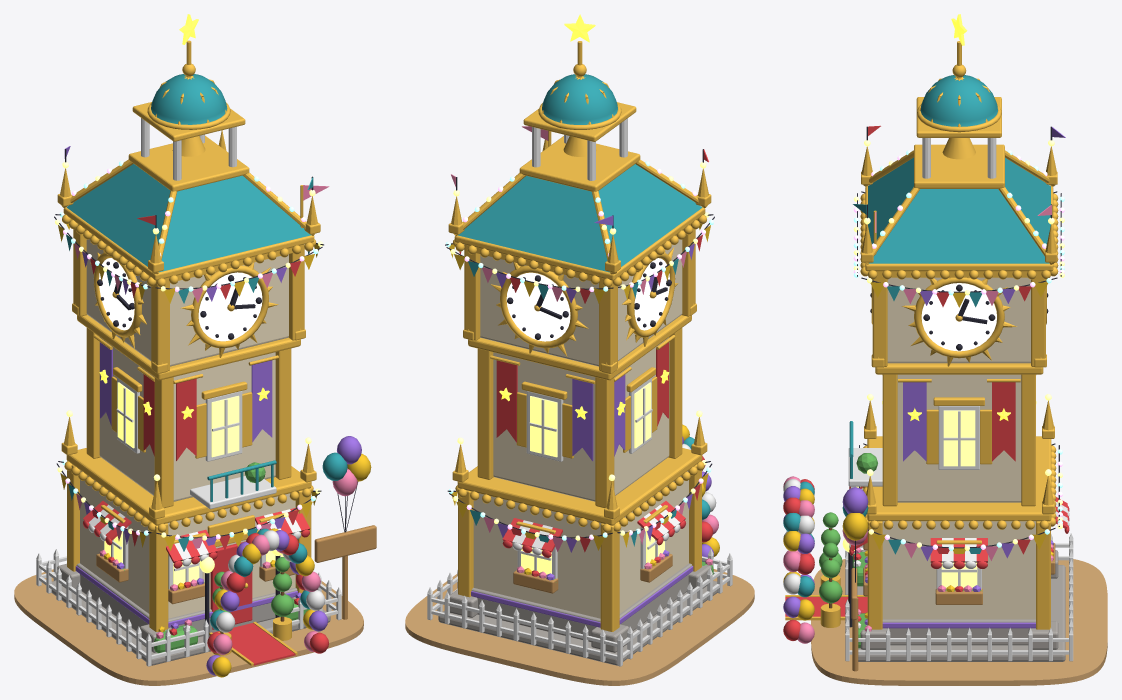
Rendered from clock-tower-stage-6.aa3a9d18.glb.
3 renders of one model, left to right at view 1: azimuth 30°, elevation 25°; view 2: azimuth 150°, elevation 25°; view 3: azimuth 270°, elevation 25°, orthographic.
Parts seen in each view (by area): view 1: ClockTower_Stage6__T_gold, ClockTower_Stage6__T_cream, ClockTower_Stage6__T_teal, ClockTower_Stage6__T_white, ClockTower_Stage6__T_red, ClockTower_Stage6__T_dirt, ClockTower_Stage6__T_purple, ClockTower_Stage6__T_stone, ClockTower_Stage6__G_clockface, ClockTower_Stage6__G_window, ClockTower_Stage6__T_wood, ClockTower_Stage6__T_yellow (+6 smaller); view 2: ClockTower_Stage6__T_gold, ClockTower_Stage6__T_cream, ClockTower_Stage6__T_teal, ClockTower_Stage6__T_white, ClockTower_Stage6__T_dirt, ClockTower_Stage6__T_stone, ClockTower_Stage6__T_purple, ClockTower_Stage6__T_red, ClockTower_Stage6__G_clockface, ClockTower_Stage6__G_window, ClockTower_Stage6__T_dark, ClockTower_Stage6__T_yellow (+6 smaller); view 3: ClockTower_Stage6__T_gold, ClockTower_Stage6__T_cream, ClockTower_Stage6__T_teal, ClockTower_Stage6__T_dirt, ClockTower_Stage6__T_white, ClockTower_Stage6__T_stone, ClockTower_Stage6__T_red, ClockTower_Stage6__T_purple, ClockTower_Stage6__G_clockface, ClockTower_Stage6__G_window, ClockTower_Stage6__T_leaf, ClockTower_Stage6__T_yellow (+6 smaller).
Boxes of the visible parts, x1=… form: ClockTower_Stage6__T_gold: x1=57, y1=40, x2=320, y2=665; ClockTower_Stage6__T_cream: x1=80, y1=239, x2=295, y2=618; ClockTower_Stage6__T_teal: x1=66, y1=74, x2=347, y2=631; ClockTower_Stage6__T_white: x1=36, y1=118, x2=341, y2=666; ClockTower_Stage6__T_red: x1=83, y1=215, x2=328, y2=665; ClockTower_Stage6__T_dirt: x1=14, y1=569, x2=363, y2=685; ClockTower_Stage6__T_purple: x1=64, y1=146, x2=361, y2=675; ClockTower_Stage6__T_stone: x1=51, y1=563, x2=330, y2=665; ClockTower_Stage6__G_clockface: x1=99, y1=258, x2=262, y2=341; ClockTower_Stage6__G_window: x1=104, y1=382, x2=291, y2=585; ClockTower_Stage6__T_wood: x1=96, y1=525, x2=376, y2=619; ClockTower_Stage6__T_yellow: x1=58, y1=219, x2=371, y2=677; ClockTower_Stage6__T_gold: x1=448, y1=41, x2=711, y2=631; ClockTower_Stage6__T_cream: x1=473, y1=239, x2=688, y2=618; ClockTower_Stage6__T_teal: x1=458, y1=74, x2=710, y2=546; ClockTower_Stage6__T_white: x1=427, y1=118, x2=732, y2=666; ClockTower_Stage6__T_dirt: x1=405, y1=569, x2=754, y2=685; ClockTower_Stage6__T_stone: x1=438, y1=563, x2=717, y2=665; ClockTower_Stage6__T_purple: x1=471, y1=215, x2=713, y2=627; ClockTower_Stage6__T_red: x1=459, y1=149, x2=713, y2=576; ClockTower_Stage6__G_clockface: x1=506, y1=258, x2=669, y2=341; ClockTower_Stage6__G_window: x1=521, y1=382, x2=664, y2=574; ClockTower_Stage6__T_dark: x1=445, y1=149, x2=714, y2=538; ClockTower_Stage6__T_yellow: x1=449, y1=219, x2=719, y2=574; ClockTower_Stage6__T_gold: x1=785, y1=41, x2=1058, y2=629; ClockTower_Stage6__T_cream: x1=882, y1=277, x2=1035, y2=619; ClockTower_Stage6__T_teal: x1=783, y1=75, x2=1050, y2=597; ClockTower_Stage6__T_dirt: x1=811, y1=559, x2=1107, y2=685; ClockTower_Stage6__T_white: x1=783, y1=138, x2=1073, y2=661; ClockTower_Stage6__T_stone: x1=857, y1=550, x2=1065, y2=661; ClockTower_Stage6__T_red: x1=783, y1=125, x2=1069, y2=640; ClockTower_Stage6__T_purple: x1=783, y1=127, x2=1065, y2=628; ClockTower_Stage6__G_clockface: x1=921, y1=283, x2=996, y2=351; ClockTower_Stage6__G_window: x1=842, y1=410, x2=977, y2=588; ClockTower_Stage6__T_leaf: x1=819, y1=453, x2=982, y2=648; ClockTower_Stage6__T_yellow: x1=783, y1=282, x2=1053, y2=620.
Size of the model in its own units: 4.98 by 10.86 by 5.25.
